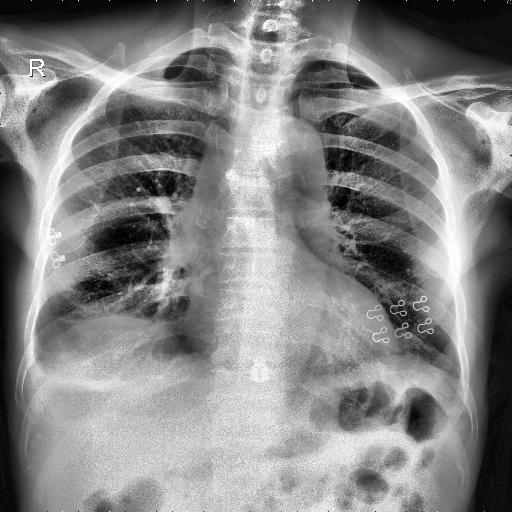0- Aortic enlargement: (240, 116, 328, 204), (261, 114, 327, 194), (262, 118, 328, 192)
10- Pleural effusion: (22, 353, 90, 403), (27, 330, 52, 371)
11- Pleural thickening: (22, 353, 90, 403), (27, 330, 52, 371)
3- Cardiomegaly: (181, 294, 401, 364)
